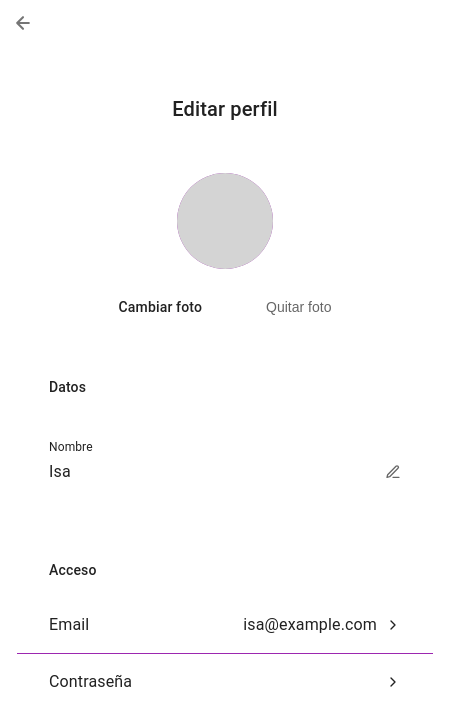
it: Given the photo of the edit profile screen › When removing the photo fails › Then an error is shown and the photo stays
Click the button "Quitar foto" at (299, 307), box [242,285,356,329]
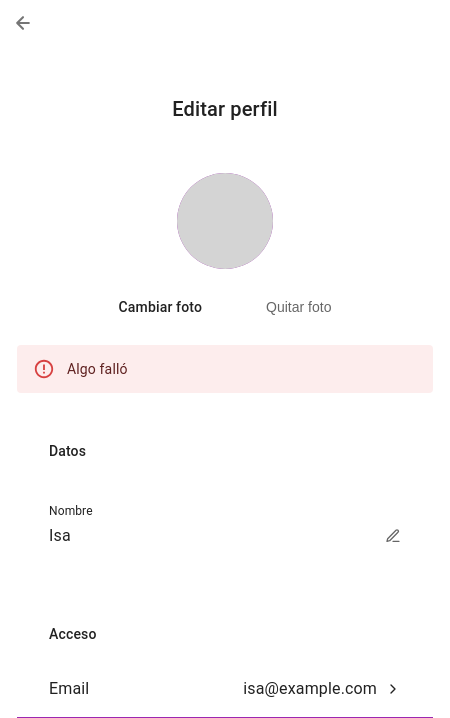
expect the message reads "Algo falló": met, box [67,361,128,377]
